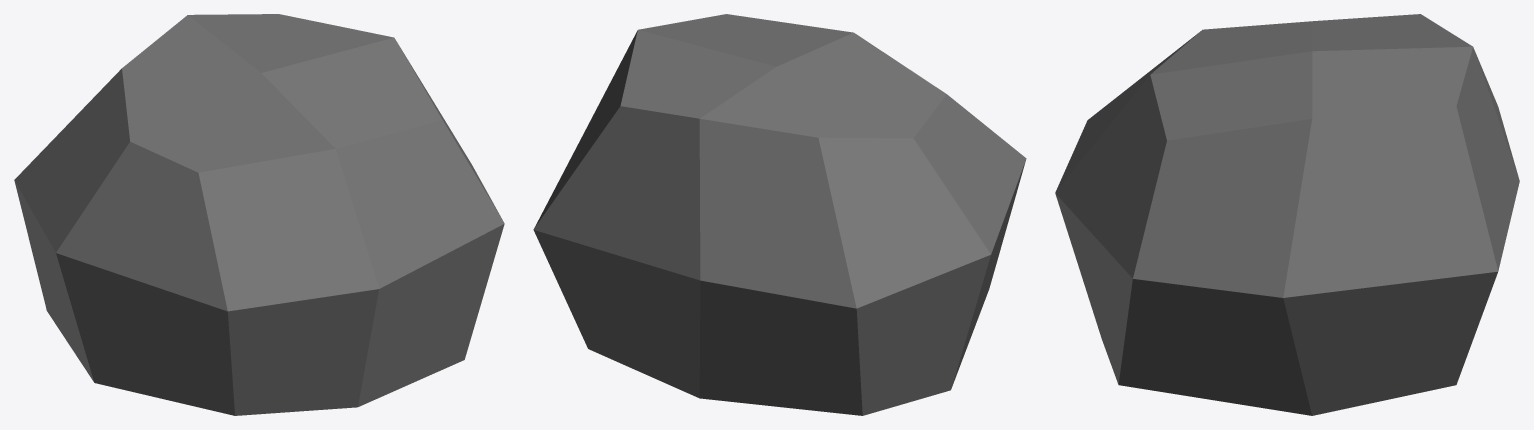
File: Boulder1.fbx
3 renders of one model, left to right at view 1: azimuth 30°, elevation 25°; view 2: azimuth 150°, elevation 25°; view 3: azimuth 270°, elevation 25°, orthographic. The views are drawn at different scales.
Visible parts, largest first — view 1: Boulder2; view 2: Boulder2; view 3: Boulder2.
Part boxes in pixels (box(x1,y1,x2,y2)): Boulder2: box(14, 14, 504, 415); Boulder2: box(533, 14, 1026, 415); Boulder2: box(1055, 14, 1519, 415).
Bounding box in the file's own units: 209 × 143 × 191.
Materials: 1 (1 with a texture image).
